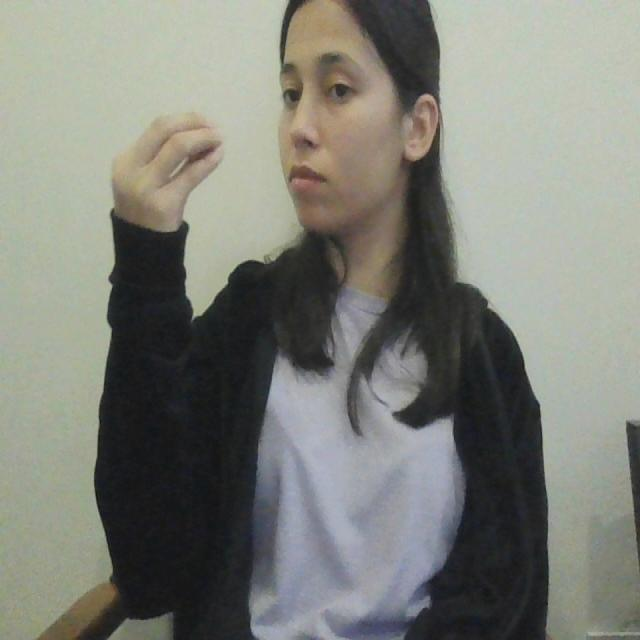Yemek: (110, 109, 331, 208)
